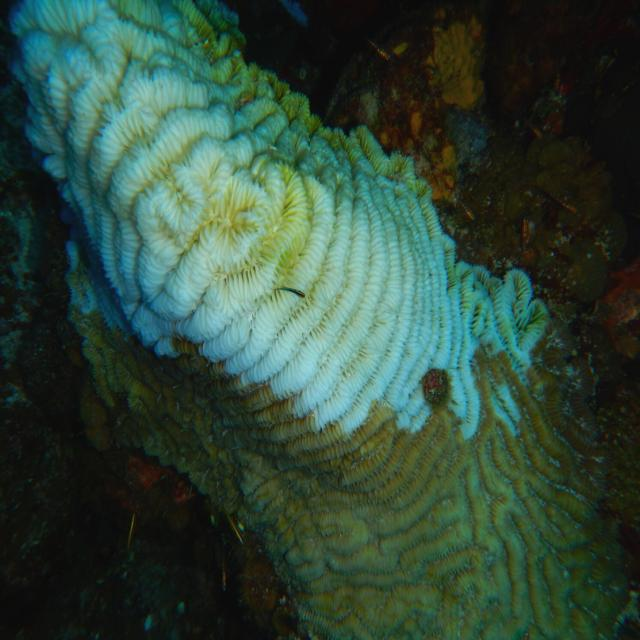Coral: (10, 0, 631, 640)
